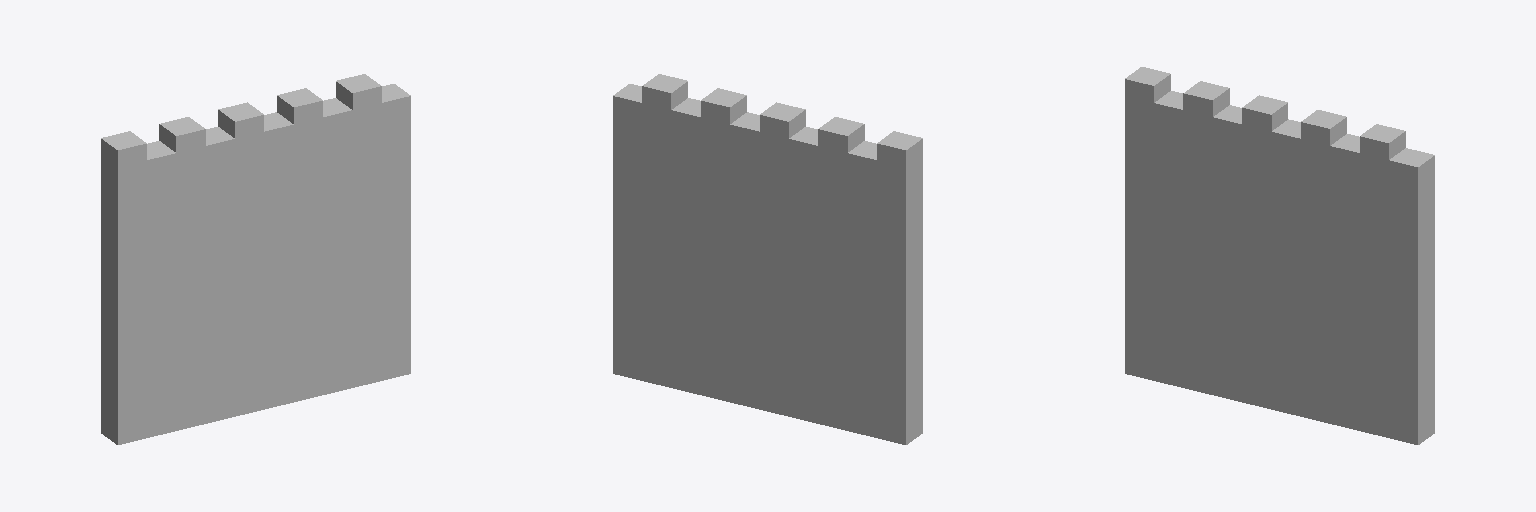
File: muralla.obj
3 renders of one model, left to right at view 1: azimuth 30°, elevation 25°; view 2: azimuth 150°, elevation 25°; view 3: azimuth 330°, elevation 25°, orthographic.
Visible parts, largest first — view 1: object 1; view 2: object 1; view 3: object 1.
Part boxes in pixels (x1,y1,x2,y2): object 1: (101,74,410,444); object 1: (613,74,922,444); object 1: (1125,67,1434,444).
Bounding box in the file's own units: 20 × 19.2 × 2.